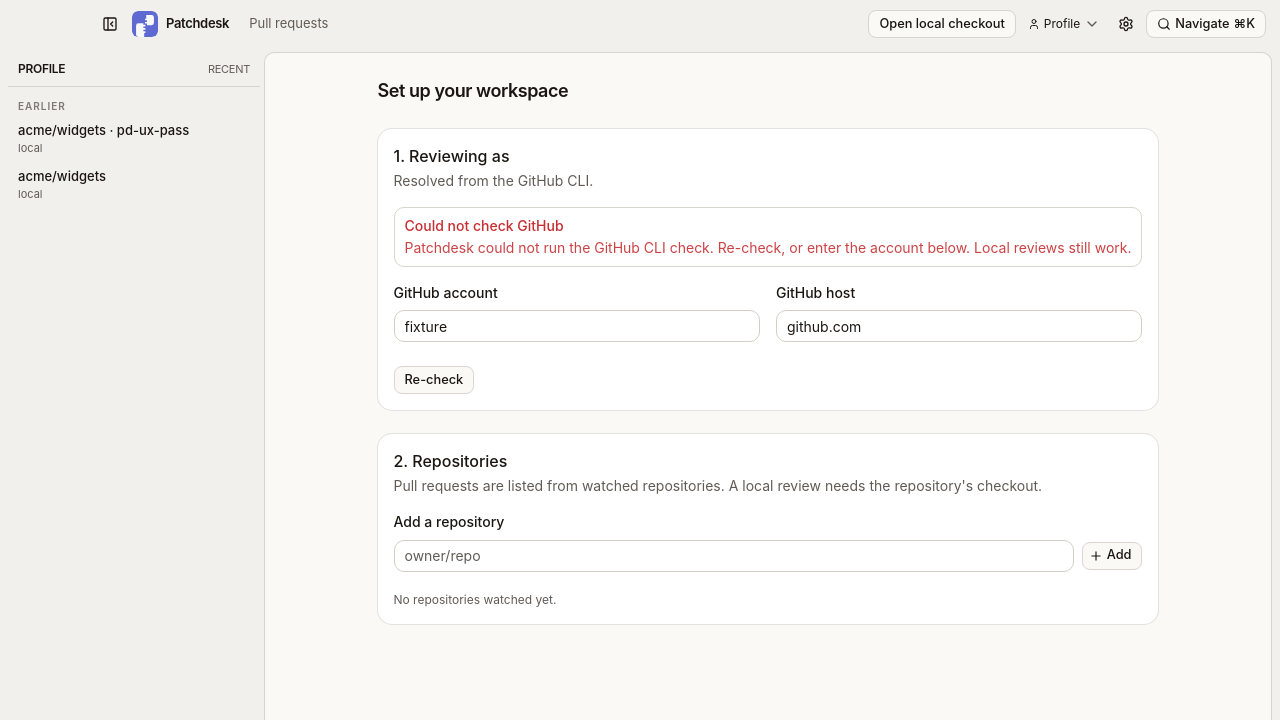
Test case: App visited local Review › opens the shared Review of a linked worktree from its own row (#489)
The width and height of the screenshot is (1280, 720).
Click the button "acme/widgets · pd-ux-pass local" at (134, 139), box [8, 116, 260, 162]
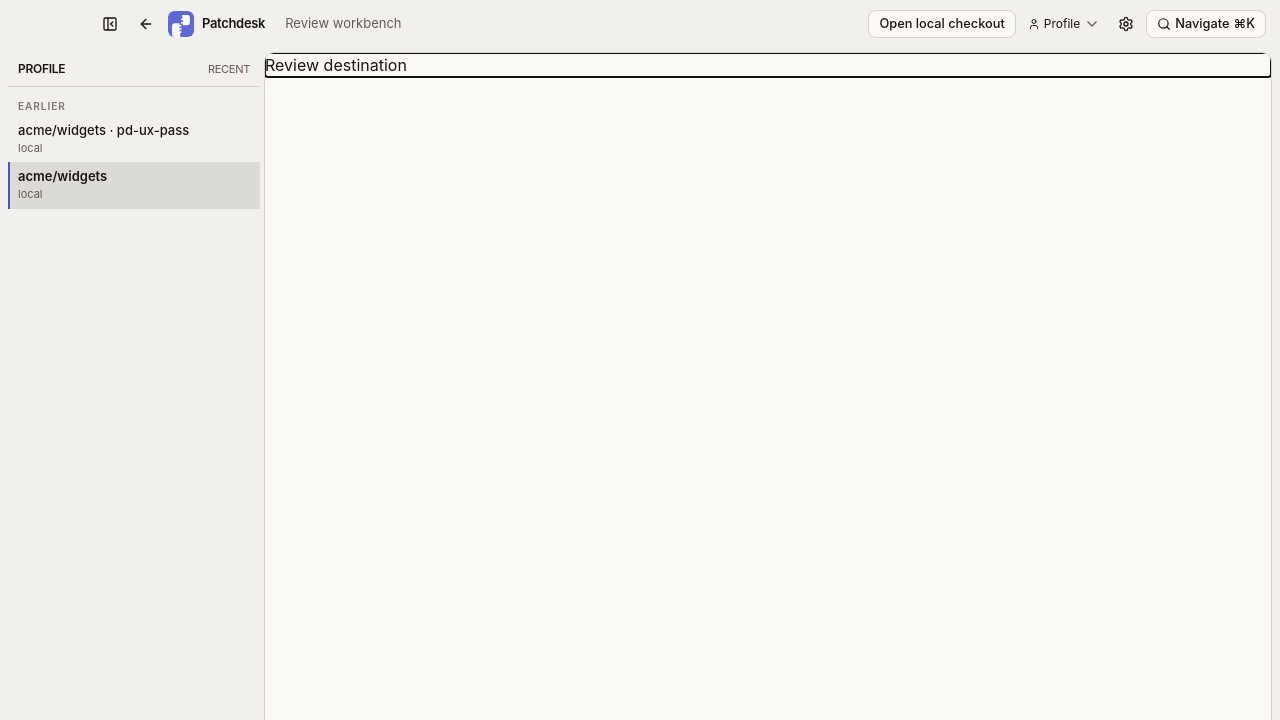
Now the heading "Review destination" is shown, box [265, 55, 407, 75]
